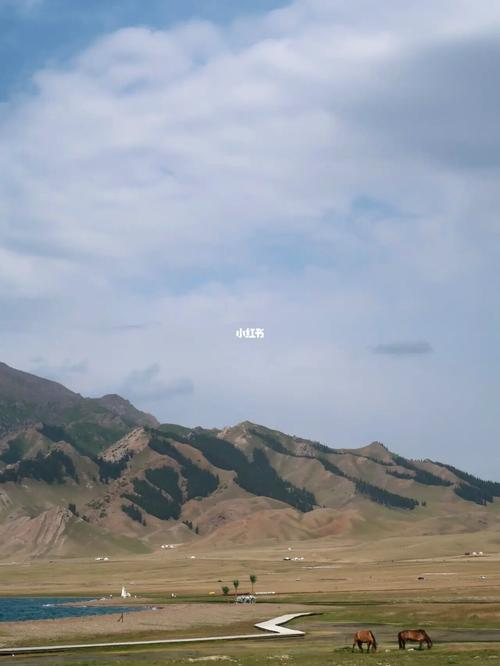mountain: (0, 388, 478, 567)
sky_cloud: (31, 91, 466, 419)
